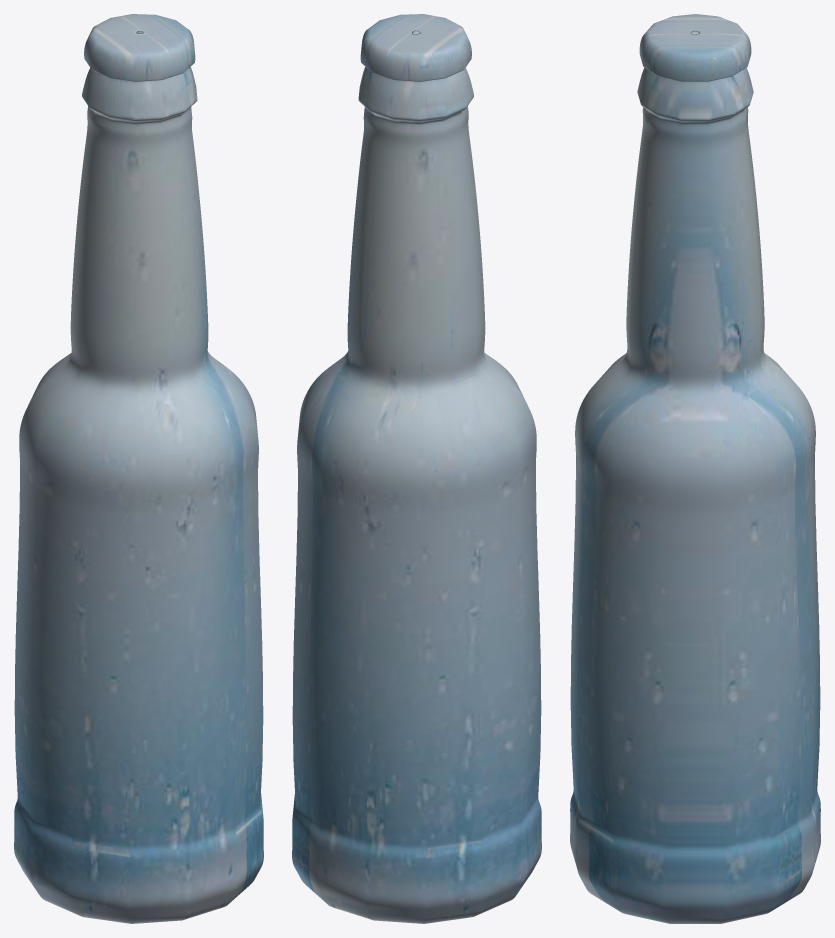
Rendered from vase_682695ed_visual.obj.
3 views of the same model, side by side, from view 1: azimuth 30°, elevation 25°; view 2: azimuth 150°, elevation 25°; view 3: azimuth 270°, elevation 25° (orthographic).
Size of the model in its own units: 0.0662 by 0.25 by 0.0666.
Materials: 1 (1 with a texture image).
